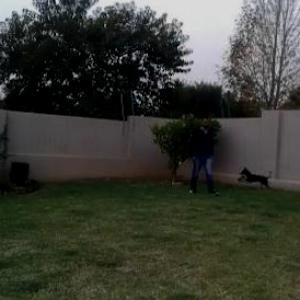follow: (188, 109, 216, 200)
